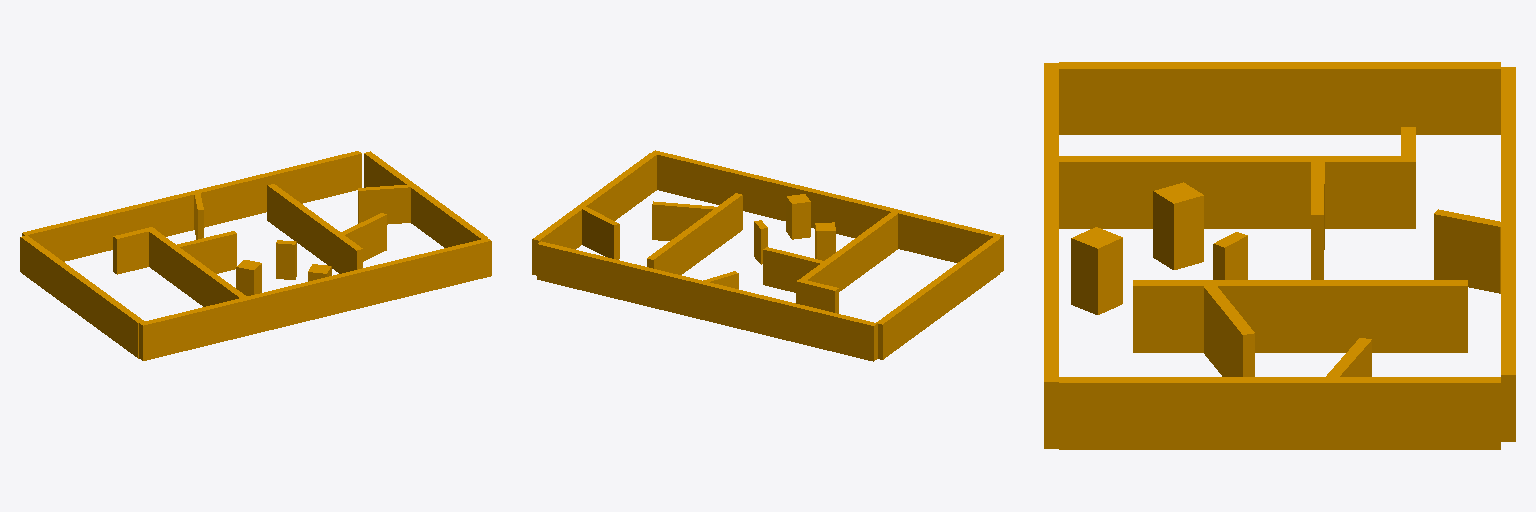
robot.urdf — world:
<?xml version="1.0" ?>
<robot name="world">
  <link name="floor">

    <visual>
      <origin rpy="0 0 0" xyz="0 0 0"/>
      <geometry>
        <mesh filename="package://robots/meshes/env/ddr_env2.obj" scale="1. 1. 1."/>
      </geometry>
    </visual>
    <collision>
      <origin rpy="0 0 0" xyz="0 0 0"/>
      <geometry>
	 	<mesh filename="package://robots/meshes/env/ddr_env2.obj" scale="1. 1. 1."/>
      </geometry>
    </collision>
  </link>

</robot>

--- Facts derived from the render (not from the file) ---
Views: 3 orthographic renders of the robot side by side, from view 1: azimuth 30°, elevation 25°; view 2: azimuth 150°, elevation 25°; view 3: azimuth 270°, elevation 25°.
Model world with 1 links and 0 joints (none), rooted at floor, posed every joint at zero.
Visible links, largest first — view 1: floor; view 2: floor; view 3: floor.
Link boxes in pixels (<box>): floor: <box>20,151,491,360</box>; floor: <box>532,150,1003,361</box>; floor: <box>1044,62,1515,449</box>.
Bounding box of the posed robot: 10.3 × 6.4 × 1 m (x, y, z).
Meshes: 1 distinct files referenced, 1 mesh visuals loaded (1 OBJ).